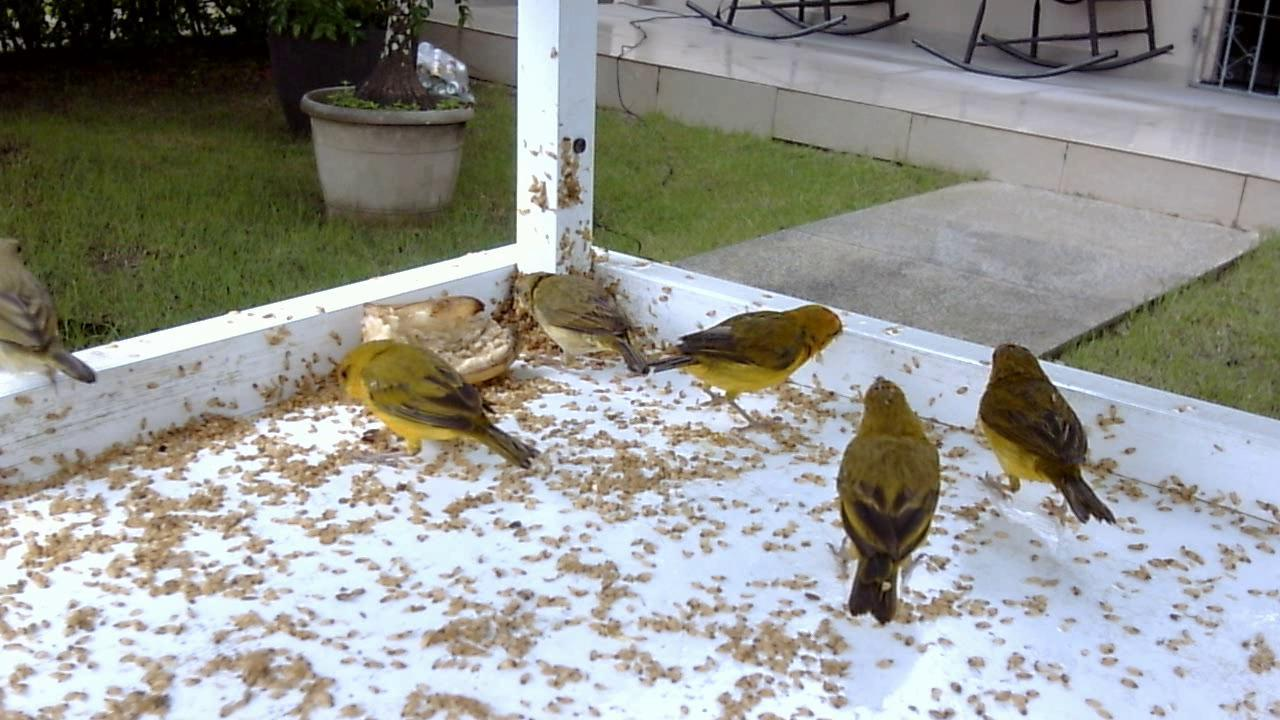canario_do_amazonas: (950, 334, 1123, 535), (635, 288, 851, 434), (329, 338, 546, 477), (829, 373, 945, 633), (506, 264, 658, 379), (1, 234, 104, 397)
